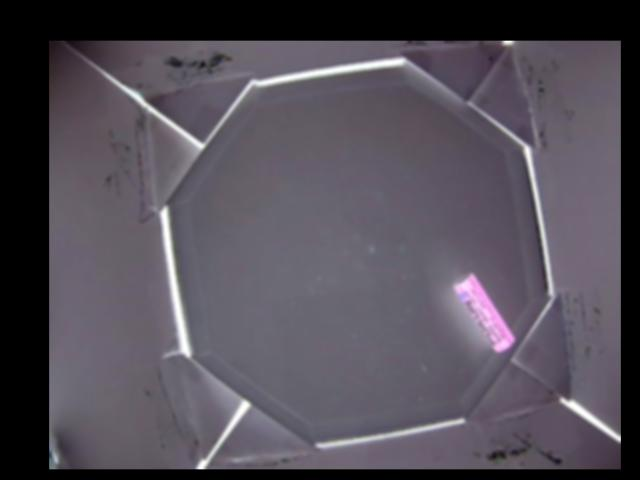Battery: (450, 274, 514, 353)
